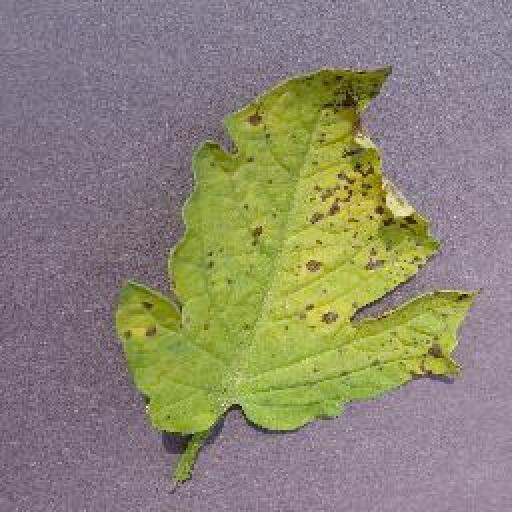disease_tomato: (116, 62, 486, 436)
